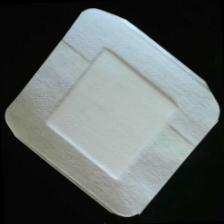Dressing: (2, 2, 224, 223)
